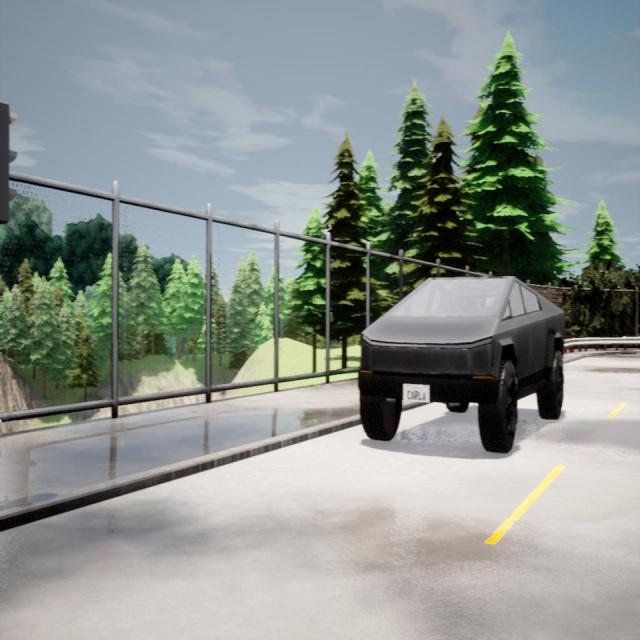Vehicle: (358, 275, 564, 453)
traffic_light: (0, 102, 16, 222)
